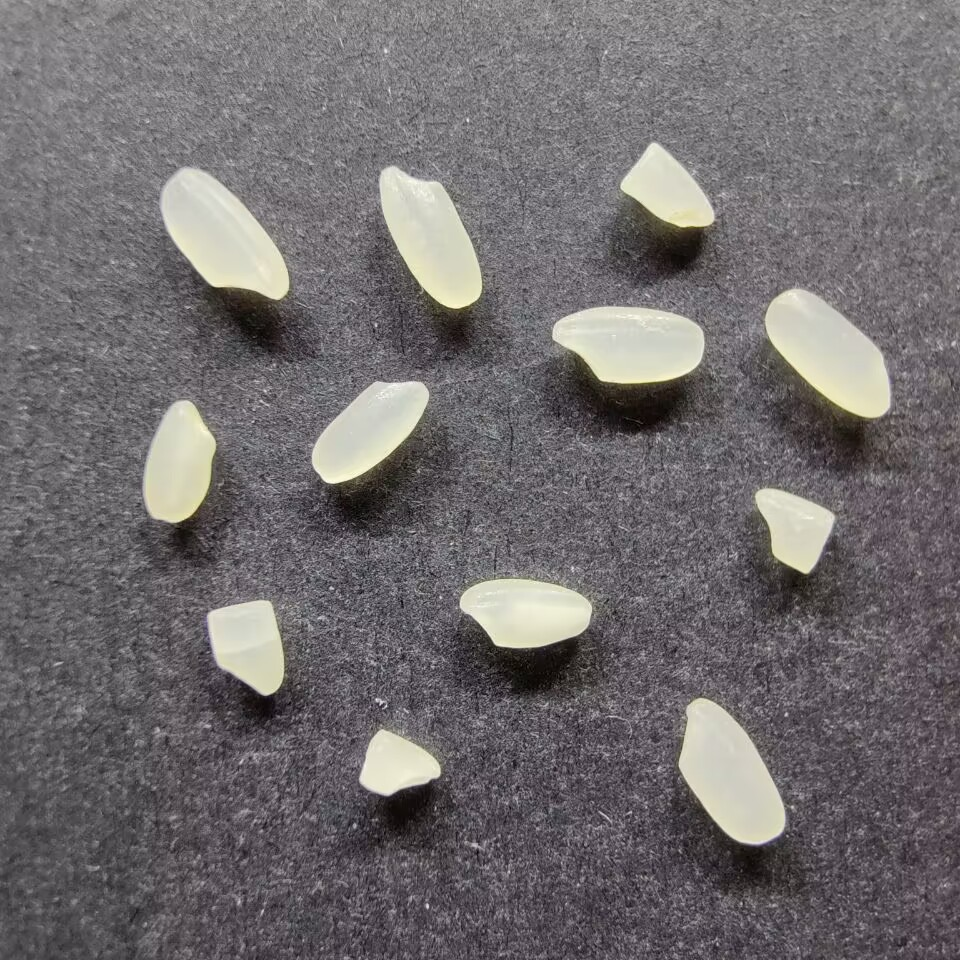broken: (205, 599, 287, 698), (620, 143, 715, 228), (752, 484, 837, 576), (356, 728, 442, 796)
rice: (762, 287, 893, 419), (160, 167, 289, 301), (675, 696, 786, 846), (379, 166, 481, 309), (309, 378, 430, 485), (549, 304, 706, 384), (457, 577, 593, 650), (140, 397, 217, 524)
